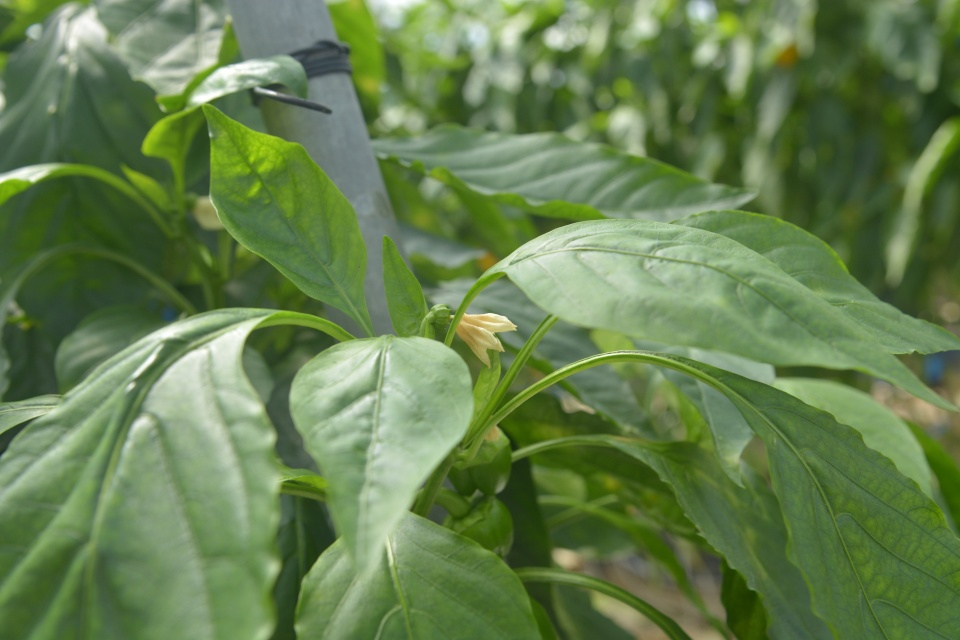flower: (448, 310, 518, 370)
immature: (446, 423, 514, 499), (440, 494, 516, 561)
